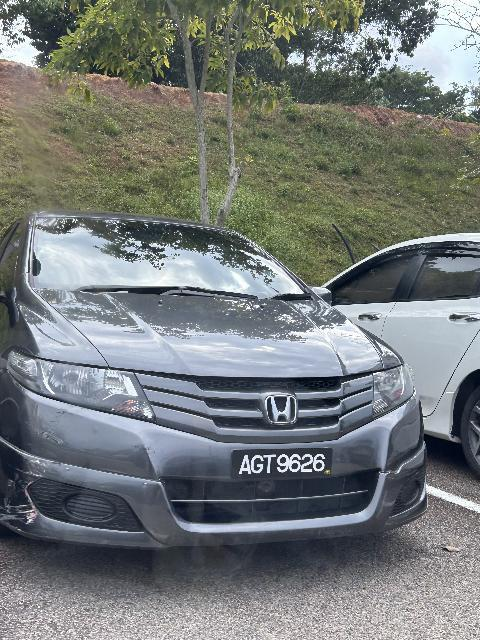AGT9626: (227, 451, 336, 483)
License_Plate: (227, 451, 336, 483)
car: (7, 211, 429, 550)
